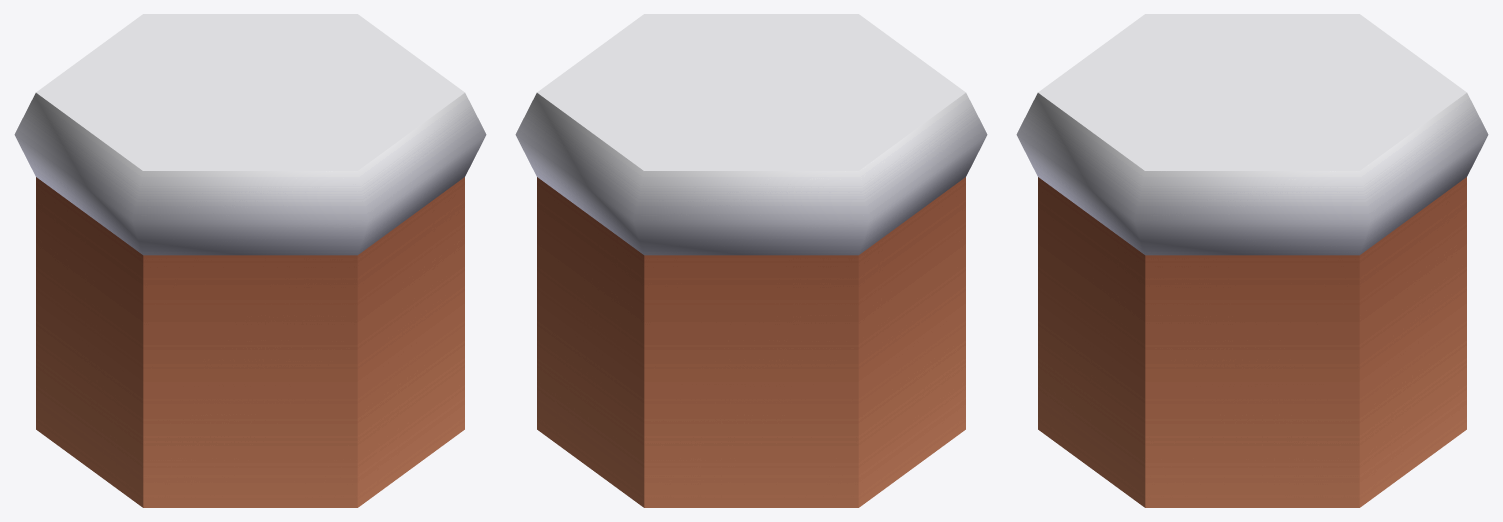
File: block-snow-hexagon.glb
3 views of the same model, side by side, from view 1: azimuth 30°, elevation 25°; view 2: azimuth 150°, elevation 25°; view 3: azimuth 270°, elevation 25° (orthographic).
Visible parts, largest first — view 1: block-snow-hexagon; view 2: block-snow-hexagon; view 3: block-snow-hexagon.
Part boxes in pixels (bbox=[...]): block-snow-hexagon: bbox=[14, 14, 486, 507]; block-snow-hexagon: bbox=[515, 14, 987, 507]; block-snow-hexagon: bbox=[1016, 14, 1488, 507].
Bounding box in the file's own units: 1.1 × 1 × 1.27.
1 material, 1 textured.
